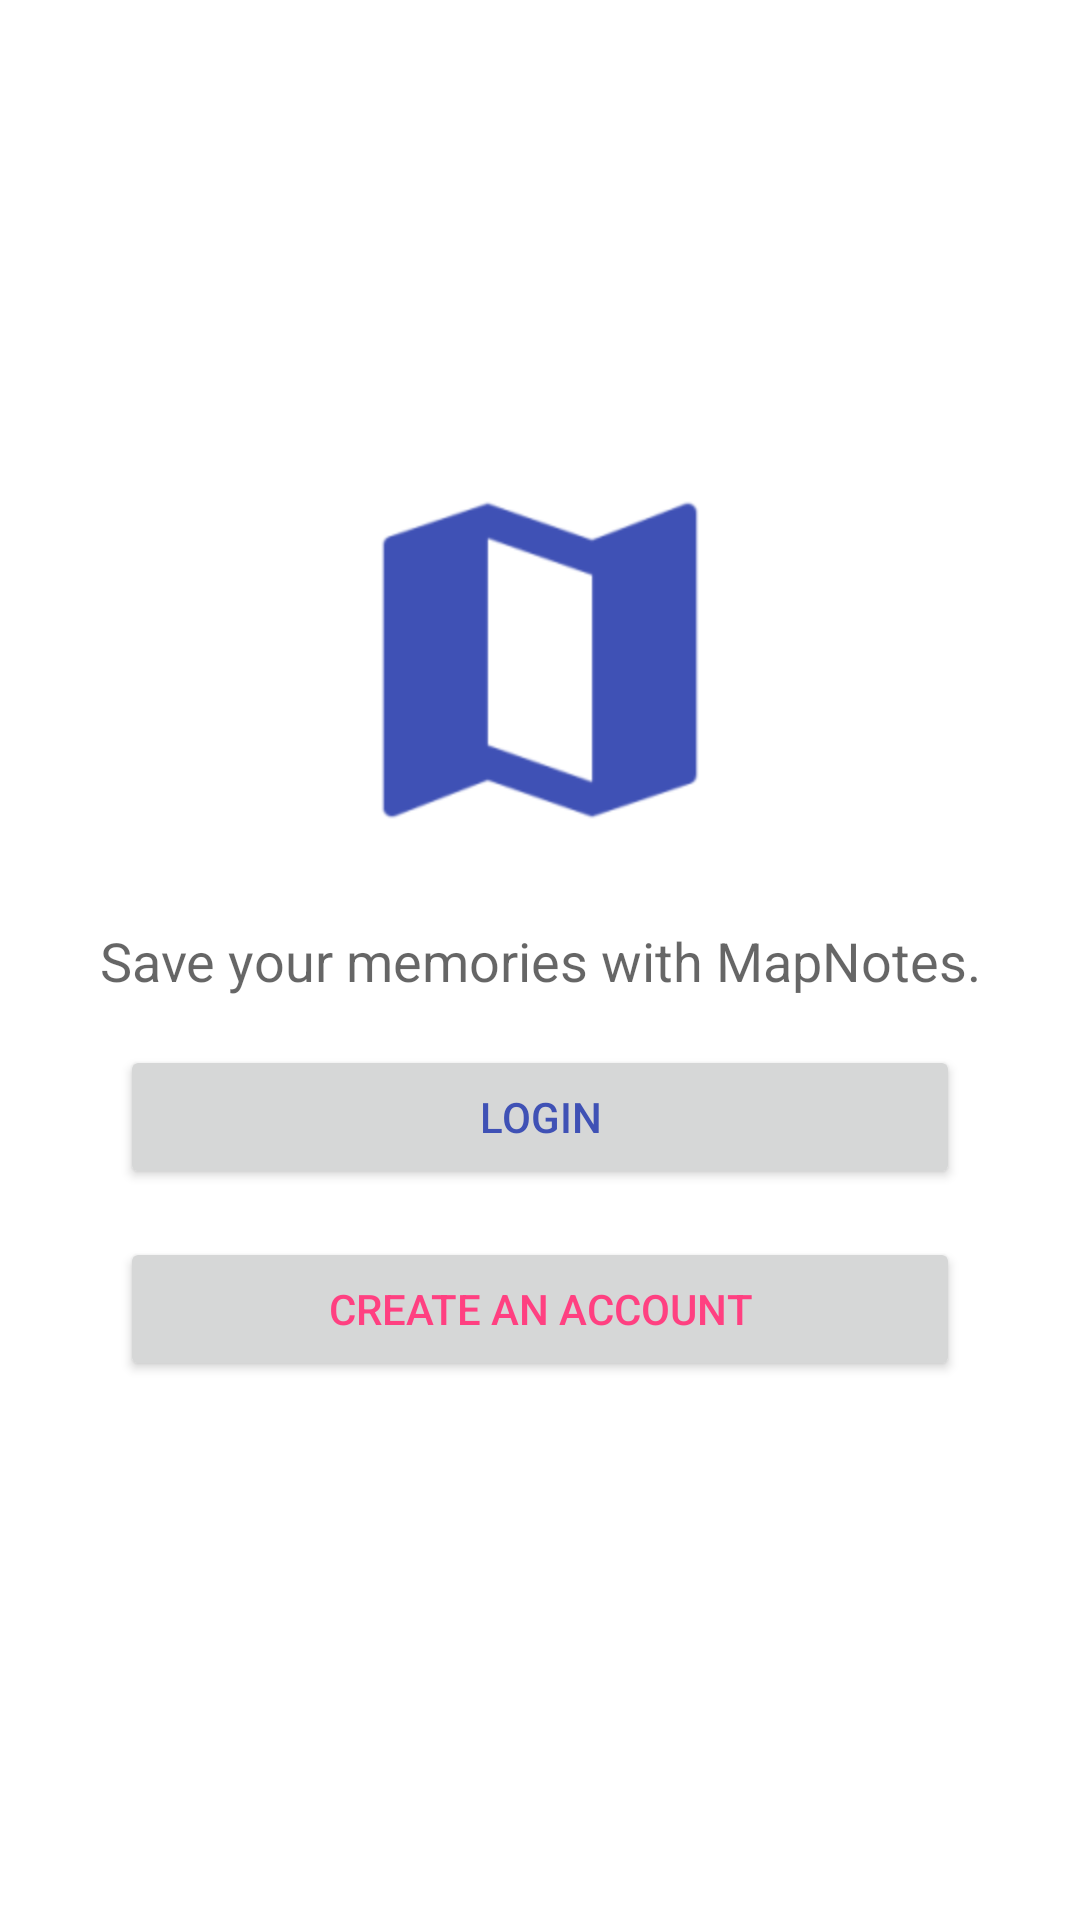

Screen size 1080px x 1920px. Icon name, then its box in pixels as [x1, y1, x2, y2]:
map: [382, 502, 698, 818]
